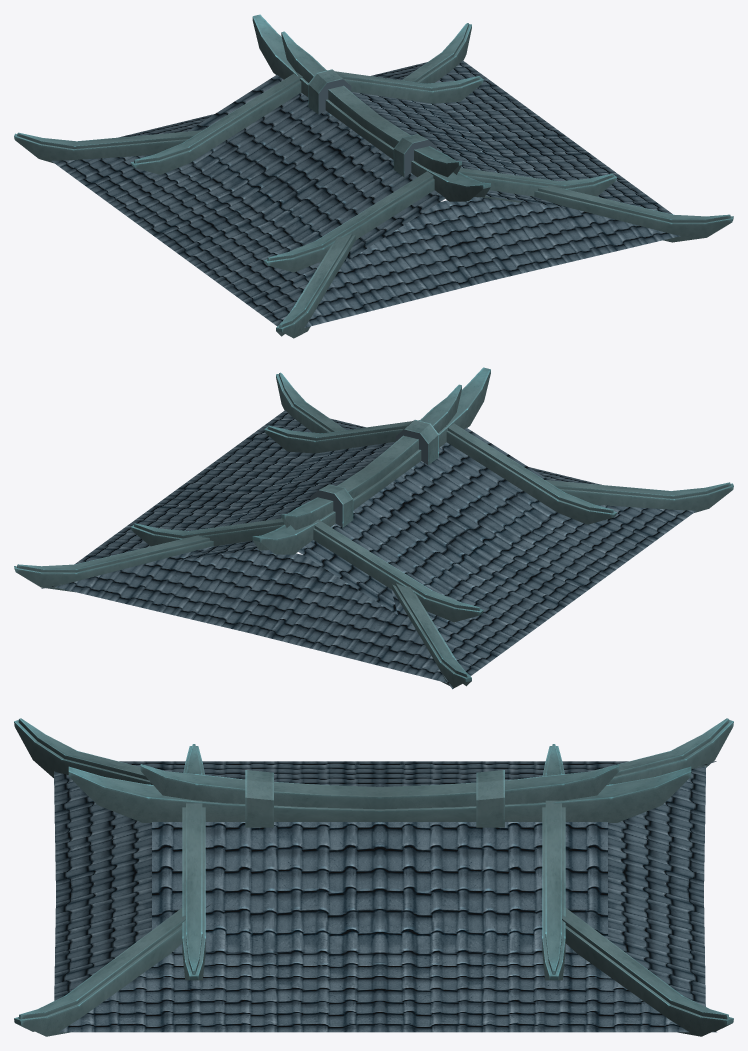
The model's file is QSMY_Avatar_01.FBX.
The picture shows the model from 3 angles, top to bottom: view 1: azimuth 30°, elevation 25°; view 2: azimuth 150°, elevation 25°; view 3: azimuth 270°, elevation 25°; orthographic projection. The views are drawn at different scales.
Visible parts, largest first — view 1: Box02, Object07, Object01, Object06, Object05, Object04, Object02, Object03, Box03, Box01; view 2: Box02, Object07, Object01, Object05, Object06, Object04, Object03, Object02, Box01, Box03; view 3: Box02, Object07, Object01, Object04, Object06, Object05, Object03, Object02, Box01, Box03.
Part boxes in pixels (<box>): Box02: <box>51,60,672,326</box>; Object07: <box>118,62,680,327</box>; Object01: <box>252,14,490,201</box>; Object06: <box>131,71,483,174</box>; Object05: <box>264,168,617,272</box>; Object04: <box>402,23,733,242</box>; Object02: <box>14,130,202,163</box>; Object03: <box>276,233,355,338</box>; Box03: <box>308,69,351,114</box>; Box01: <box>393,134,436,177</box>; Box02: <box>41,410,696,689</box>; Object07: <box>55,418,601,682</box>; Object01: <box>252,367,490,554</box>; Object05: <box>264,420,616,524</box>; Object06: <box>131,518,483,622</box>; Object04: <box>14,372,345,591</box>; Object03: <box>545,480,733,512</box>; Object02: <box>392,583,471,687</box>; Box01: <box>395,419,438,464</box>; Box03: <box>310,484,353,527</box>; Box02: <box>59,761,716,1032</box>; Object07: <box>54,766,706,1006</box>; Object01: <box>68,764,691,822</box>; Object04: <box>14,908,733,1036</box>; Object06: <box>542,744,565,980</box>; Object05: <box>182,744,205,980</box>; Object03: <box>14,718,152,784</box>; Object02: <box>590,718,733,784</box>; Box01: <box>245,770,273,827</box>; Box03: <box>476,770,504,827</box>.
Bounding box in the file's own units: 337 × 72.95 × 340.
